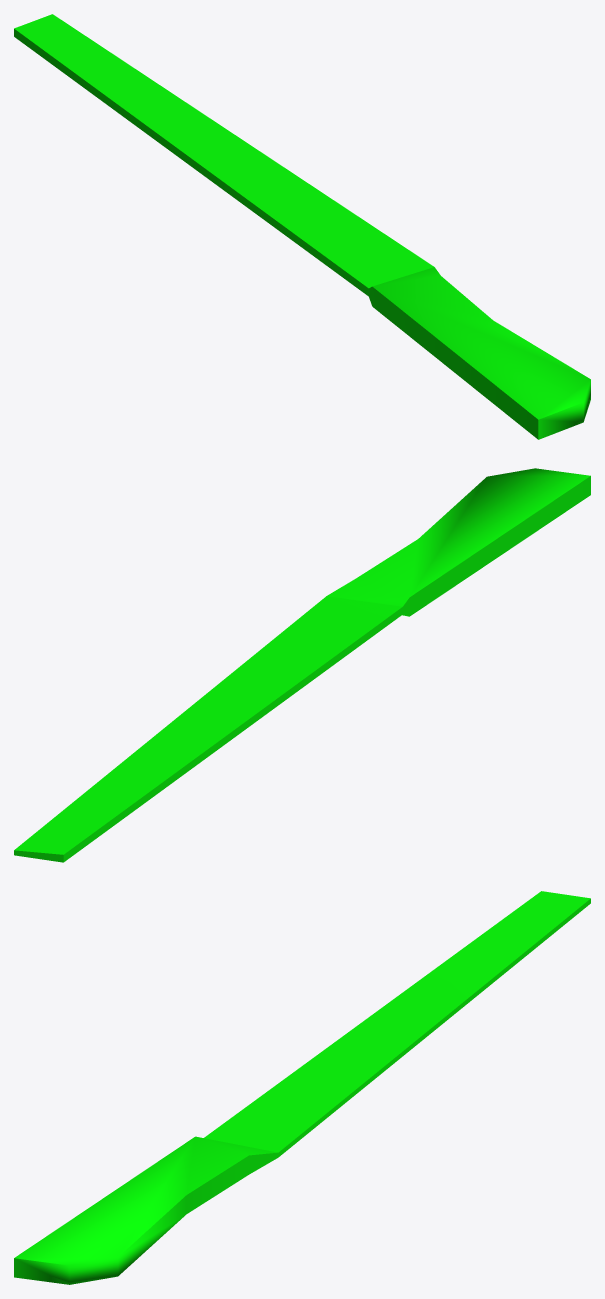
Rendered from SM_Knife_03_Collider.fbx.
The picture shows the model from 3 angles, top to bottom: view 1: azimuth 30°, elevation 25°; view 2: azimuth 150°, elevation 25°; view 3: azimuth 330°, elevation 25°; orthographic projection. The views are drawn at different scales.
Parts seen in each view (by area): view 1: SM_Knife_03_Collider; view 2: SM_Knife_03_Collider; view 3: SM_Knife_03_Collider.
Part boxes in pixels (left/top/right/bottom): SM_Knife_03_Collider: left=14, top=14, right=590, bottom=439; SM_Knife_03_Collider: left=14, top=468, right=590, bottom=862; SM_Knife_03_Collider: left=14, top=891, right=590, bottom=1284.
Size of the model in its own units: 6.07 by 1.35 by 66.18.
